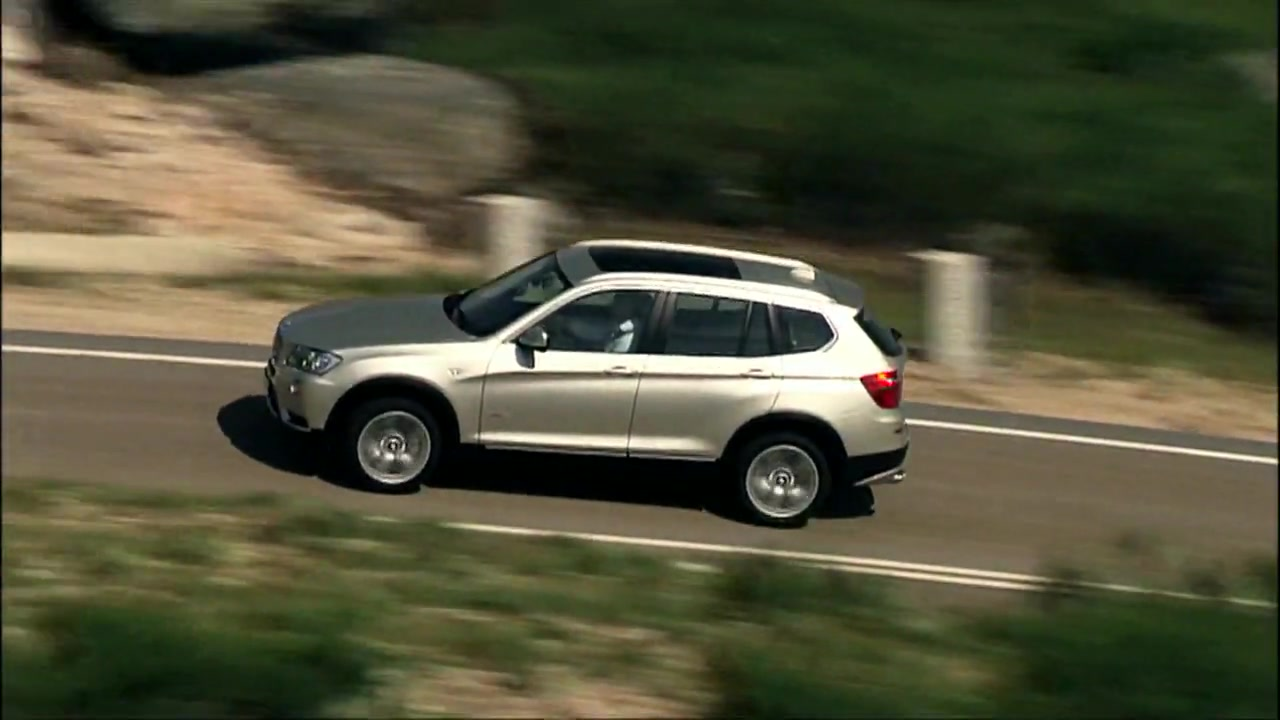car: (254, 236, 917, 533)
